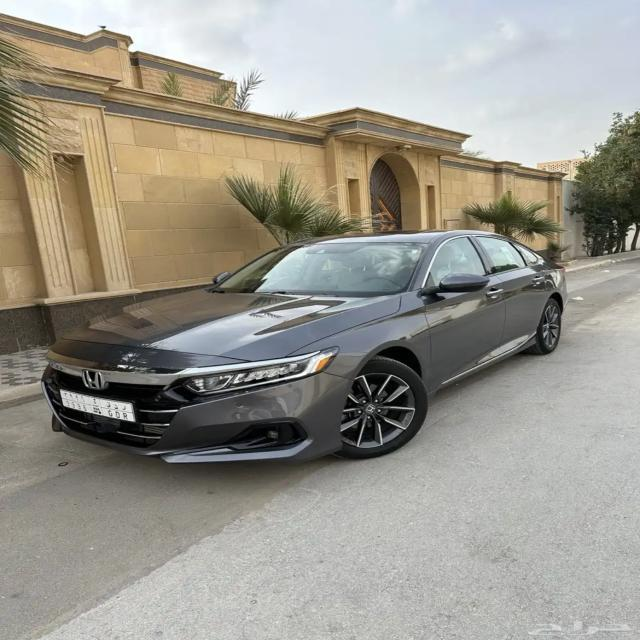license_plate: (58, 387, 137, 424)
